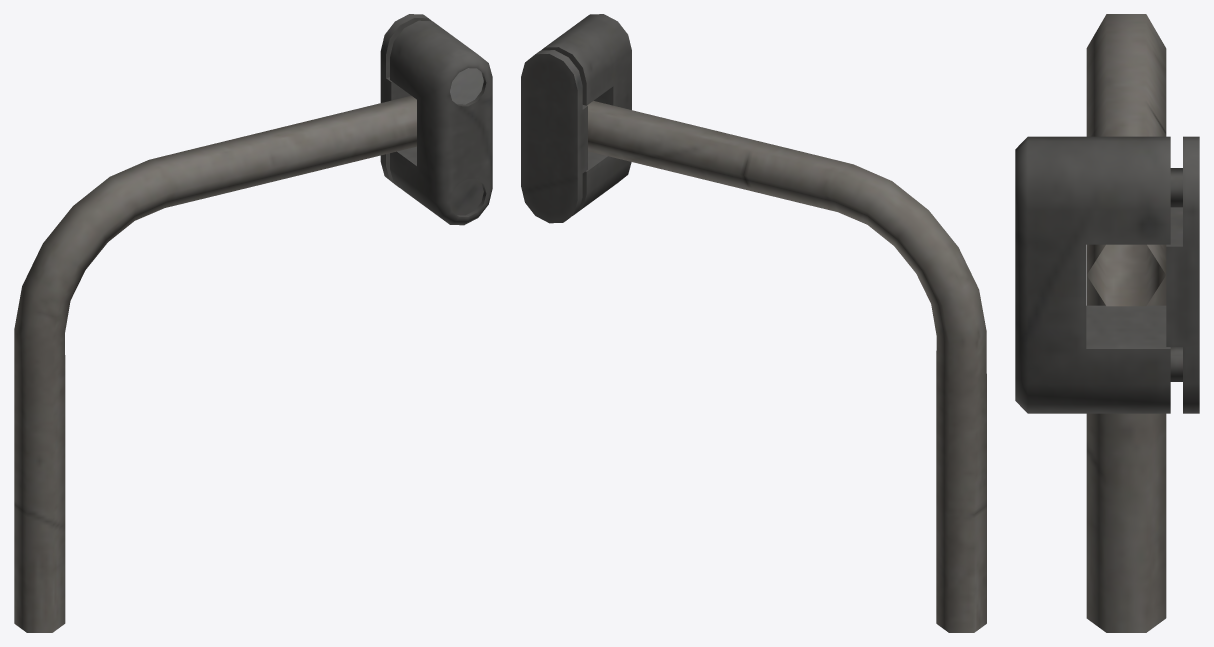
Rendered from cable_cable_turn_short.fbx.
The picture shows the model from 3 angles, left to right: view 1: azimuth 30°, elevation 25°; view 2: azimuth 150°, elevation 25°; view 3: azimuth 270°, elevation 25°; orthographic projection. The views are drawn at different scales.
Visible parts, largest first — view 1: modular_electric_cables__cable_turn_short; view 2: modular_electric_cables__cable_turn_short; view 3: modular_electric_cables__cable_turn_short.
Boxes of the visible parts, x1=… form: modular_electric_cables__cable_turn_short: x1=14, y1=14, x2=492, y2=632; modular_electric_cables__cable_turn_short: x1=521, y1=14, x2=986, y2=632; modular_electric_cables__cable_turn_short: x1=1015, y1=14, x2=1199, y2=632.
Bounding box in the file's own units: 0.1121 × 0.1208 × 0.0259.
